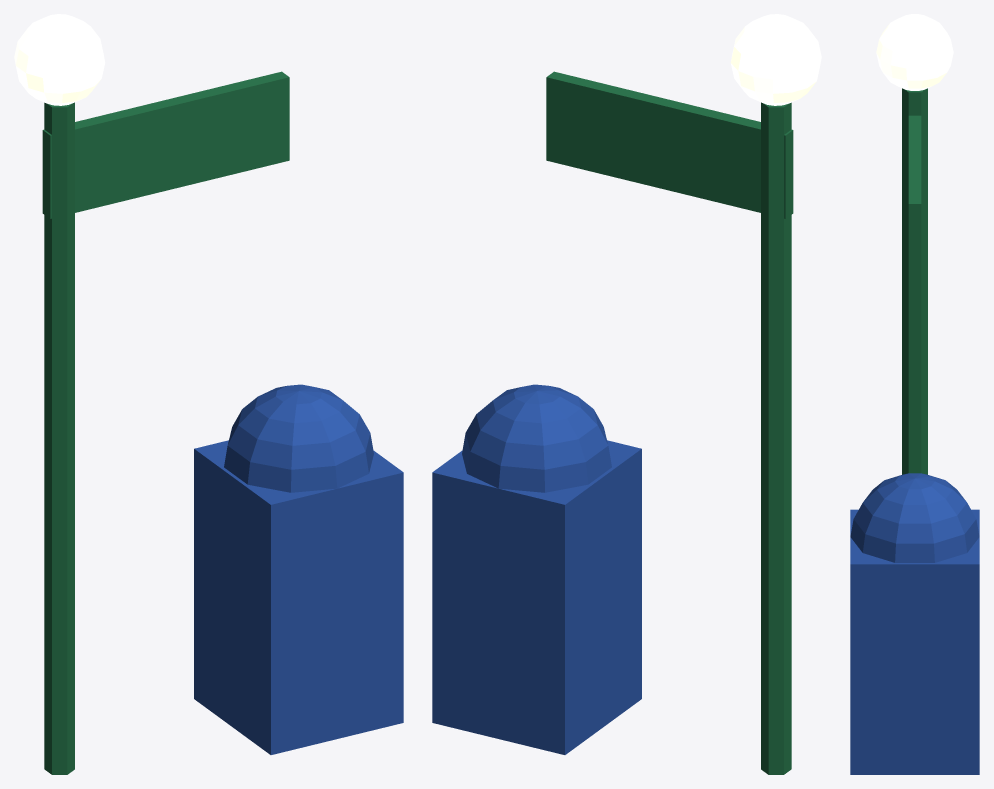
The model's file is az-district.glb.
3 renders of one model, left to right at view 1: azimuth 30°, elevation 25°; view 2: azimuth 150°, elevation 25°; view 3: azimuth 270°, elevation 25°, orthographic. The views are drawn at different scales.
Parts seen in each view (by area): view 1: cw_paint, cw_glow; view 2: cw_paint, cw_glow; view 3: cw_paint, cw_glow.
Boxes of the visible parts, x1,y1,x2,y2 form: cw_paint: (42, 71, 403, 774); cw_glow: (14, 14, 105, 105); cw_paint: (432, 71, 793, 774); cw_glow: (730, 14, 821, 105); cw_paint: (850, 88, 979, 774); cw_glow: (876, 14, 953, 90).
Bounding box in the file's own units: 1.3 × 2.7 × 0.5.
